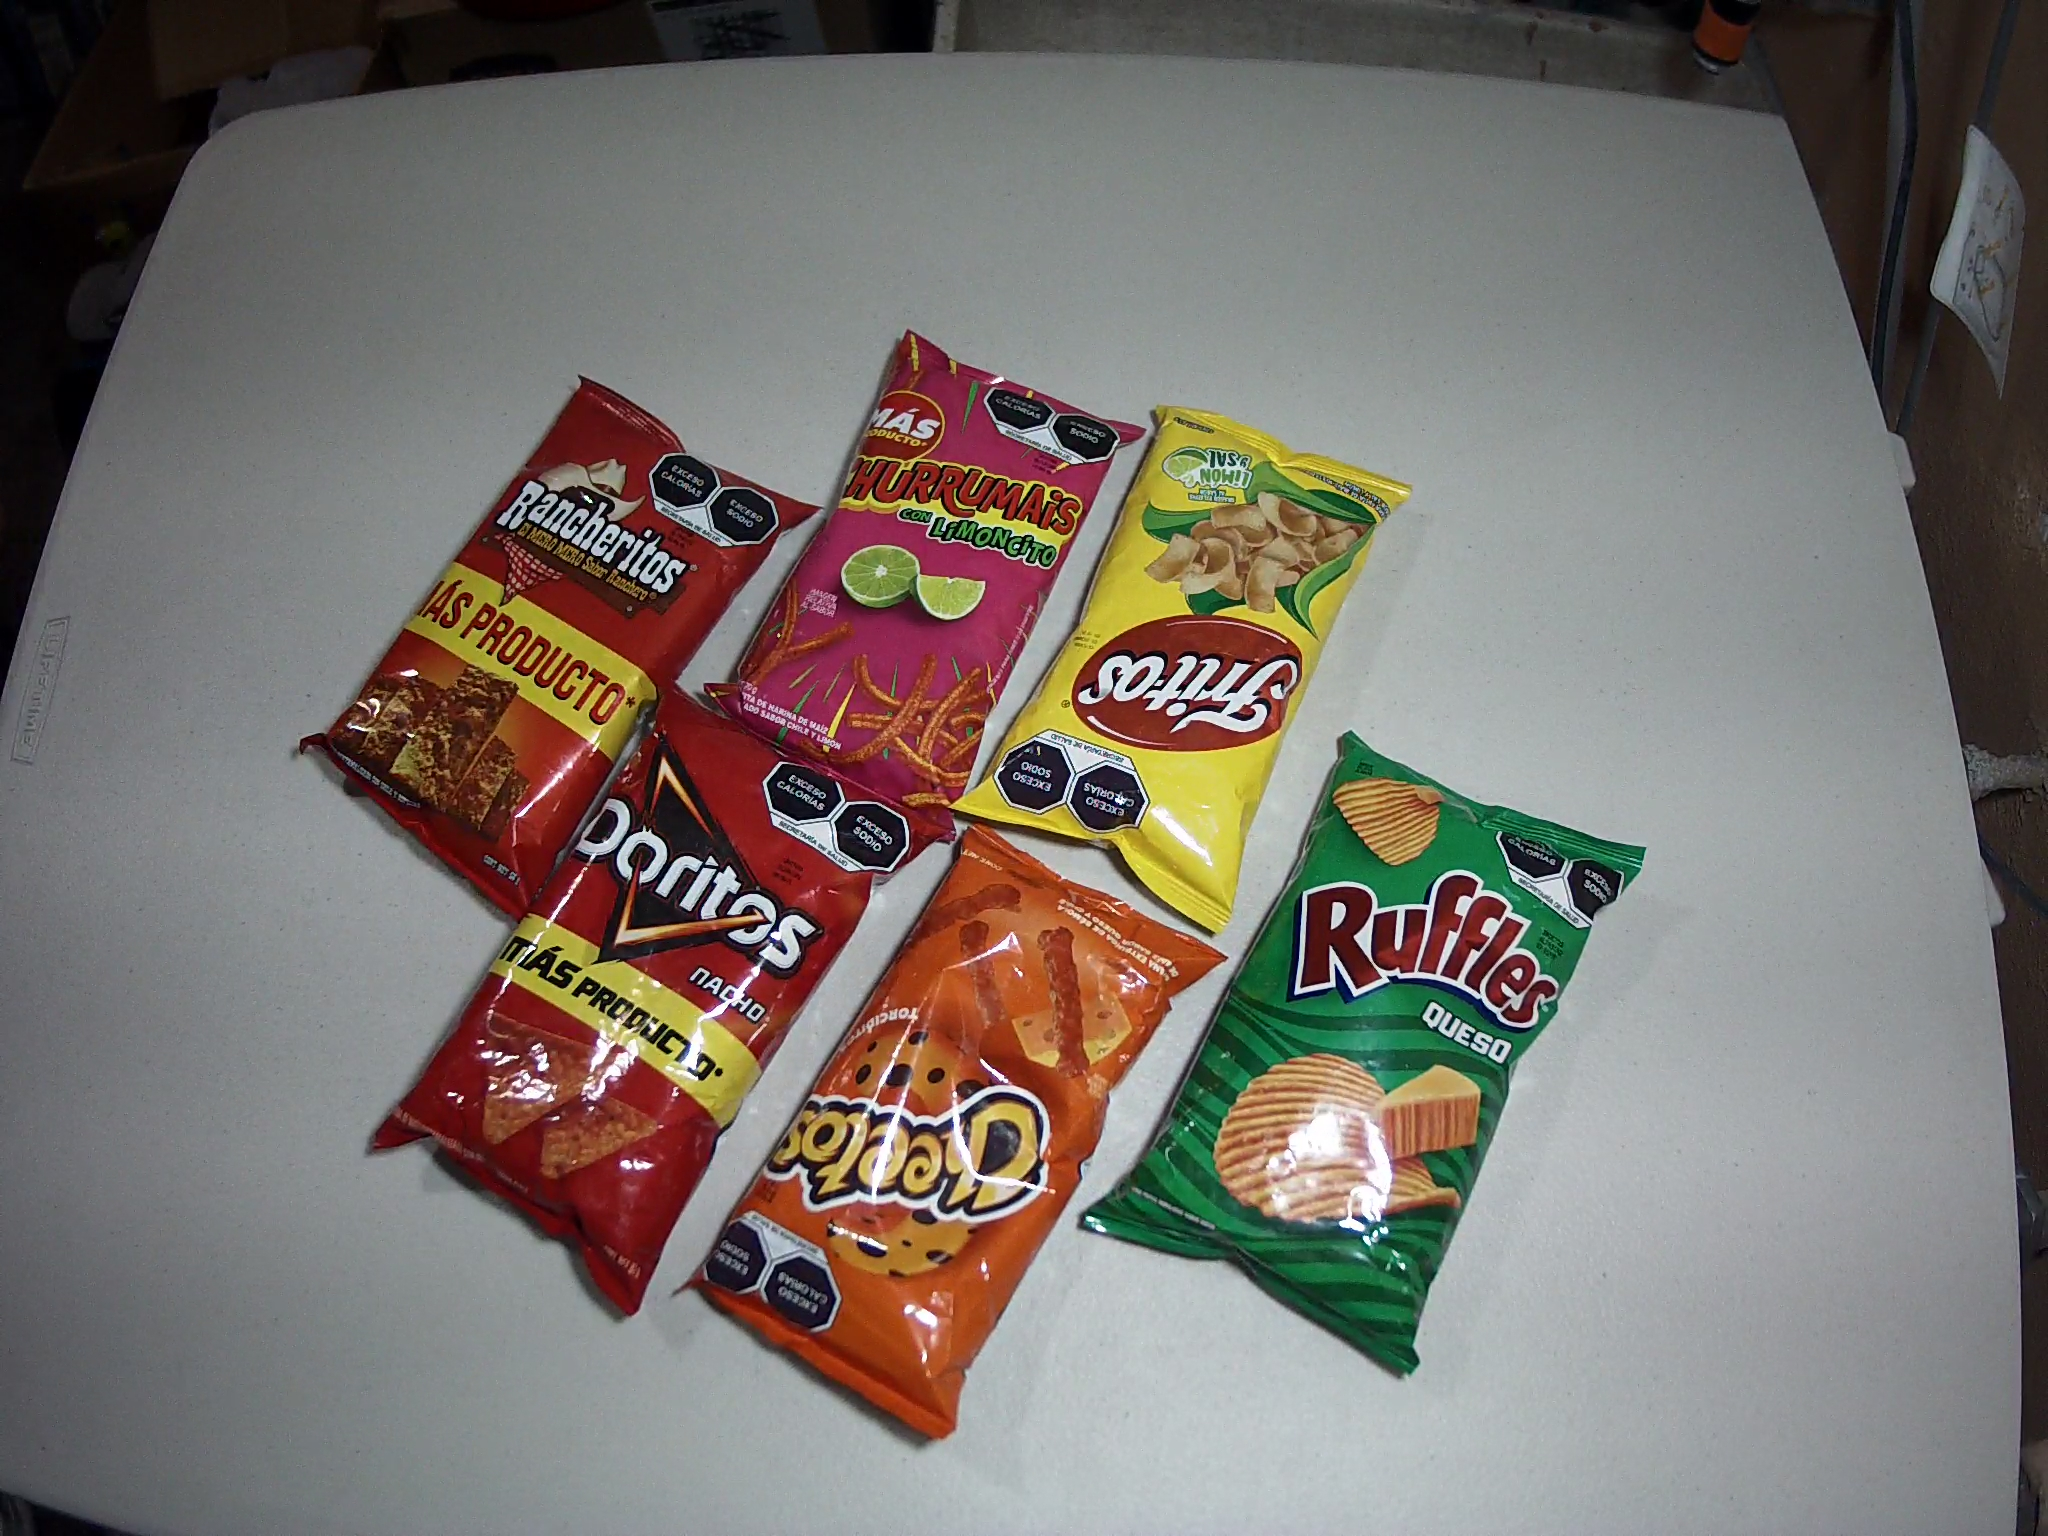CheetosTorciditos_55_F: (698, 824, 1230, 1442)
Churrumais_70_F: (705, 328, 1147, 813)
DoritosN_61_F: (369, 687, 955, 1317)
FritosSalLimon_65_F: (982, 407, 1416, 934)
Rancheritos_58_F: (298, 369, 816, 920)
RufflesQ_48_F: (1084, 734, 1646, 1371)
